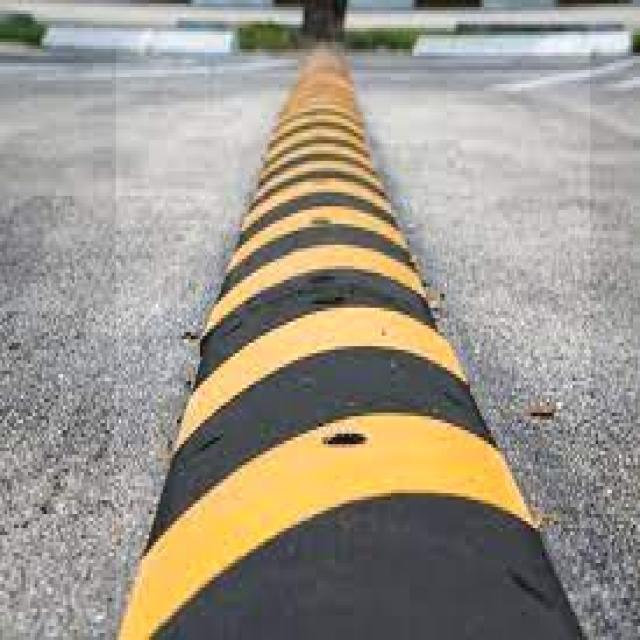speed-bump: (116, 49, 590, 640)
